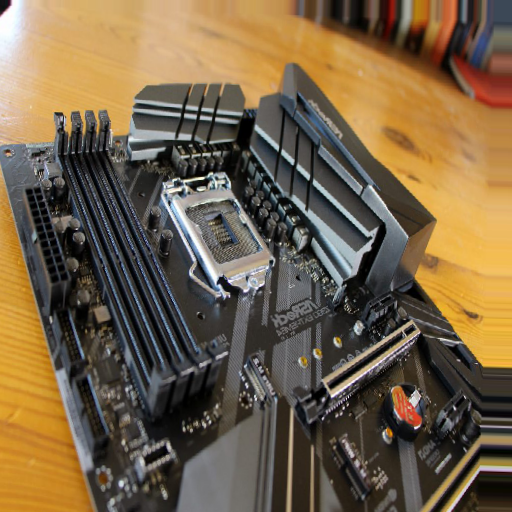CPU: (163, 185, 276, 297)
GPU: (295, 319, 423, 420)
MOTHERBOARD: (9, 75, 512, 511)
RAM: (53, 113, 233, 409)
SSD: (367, 297, 409, 333)
